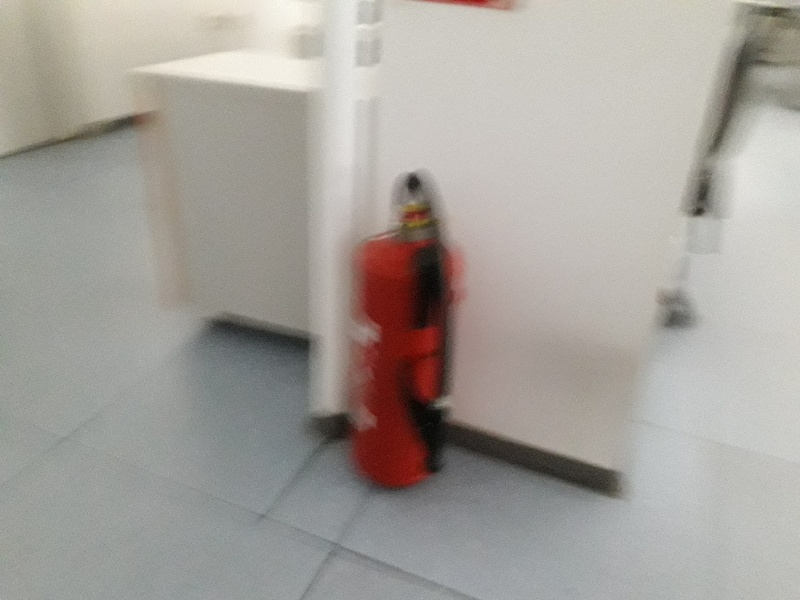vataparat: (351, 172, 463, 490)
